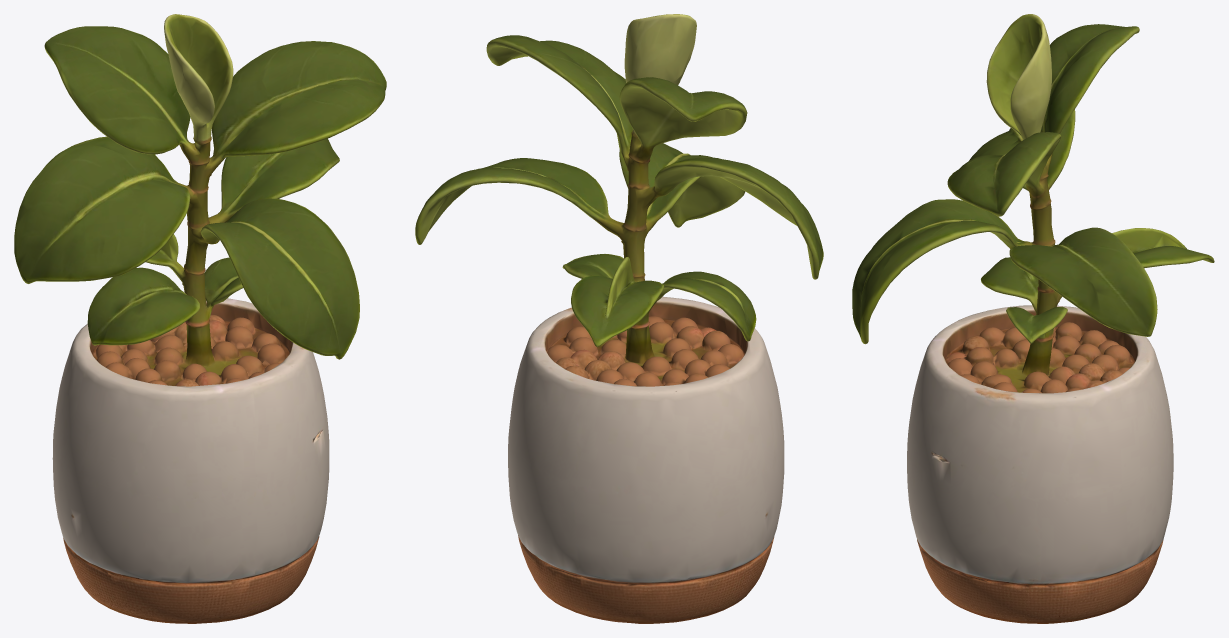
Rendered from plant-tall.high.glb.
3 renders of one model, left to right at view 1: azimuth 30°, elevation 25°; view 2: azimuth 150°, elevation 25°; view 3: azimuth 270°, elevation 25°, orthographic. The views are drawn at different scales.
Parts seen in each view (by area): view 1: tripo_node_f10ae956-6673-4ded-a62b-b8a8e37a01b8; view 2: tripo_node_f10ae956-6673-4ded-a62b-b8a8e37a01b8; view 3: tripo_node_f10ae956-6673-4ded-a62b-b8a8e37a01b8.
Part boxes in pixels (x1,y1,x2,y2): tripo_node_f10ae956-6673-4ded-a62b-b8a8e37a01b8: (14, 14, 386, 623); tripo_node_f10ae956-6673-4ded-a62b-b8a8e37a01b8: (415, 14, 823, 623); tripo_node_f10ae956-6673-4ded-a62b-b8a8e37a01b8: (852, 14, 1214, 623).
Bounding box in the file's own units: 0.8679 × 1.35 × 0.7995.
1 material, 1 textured.
